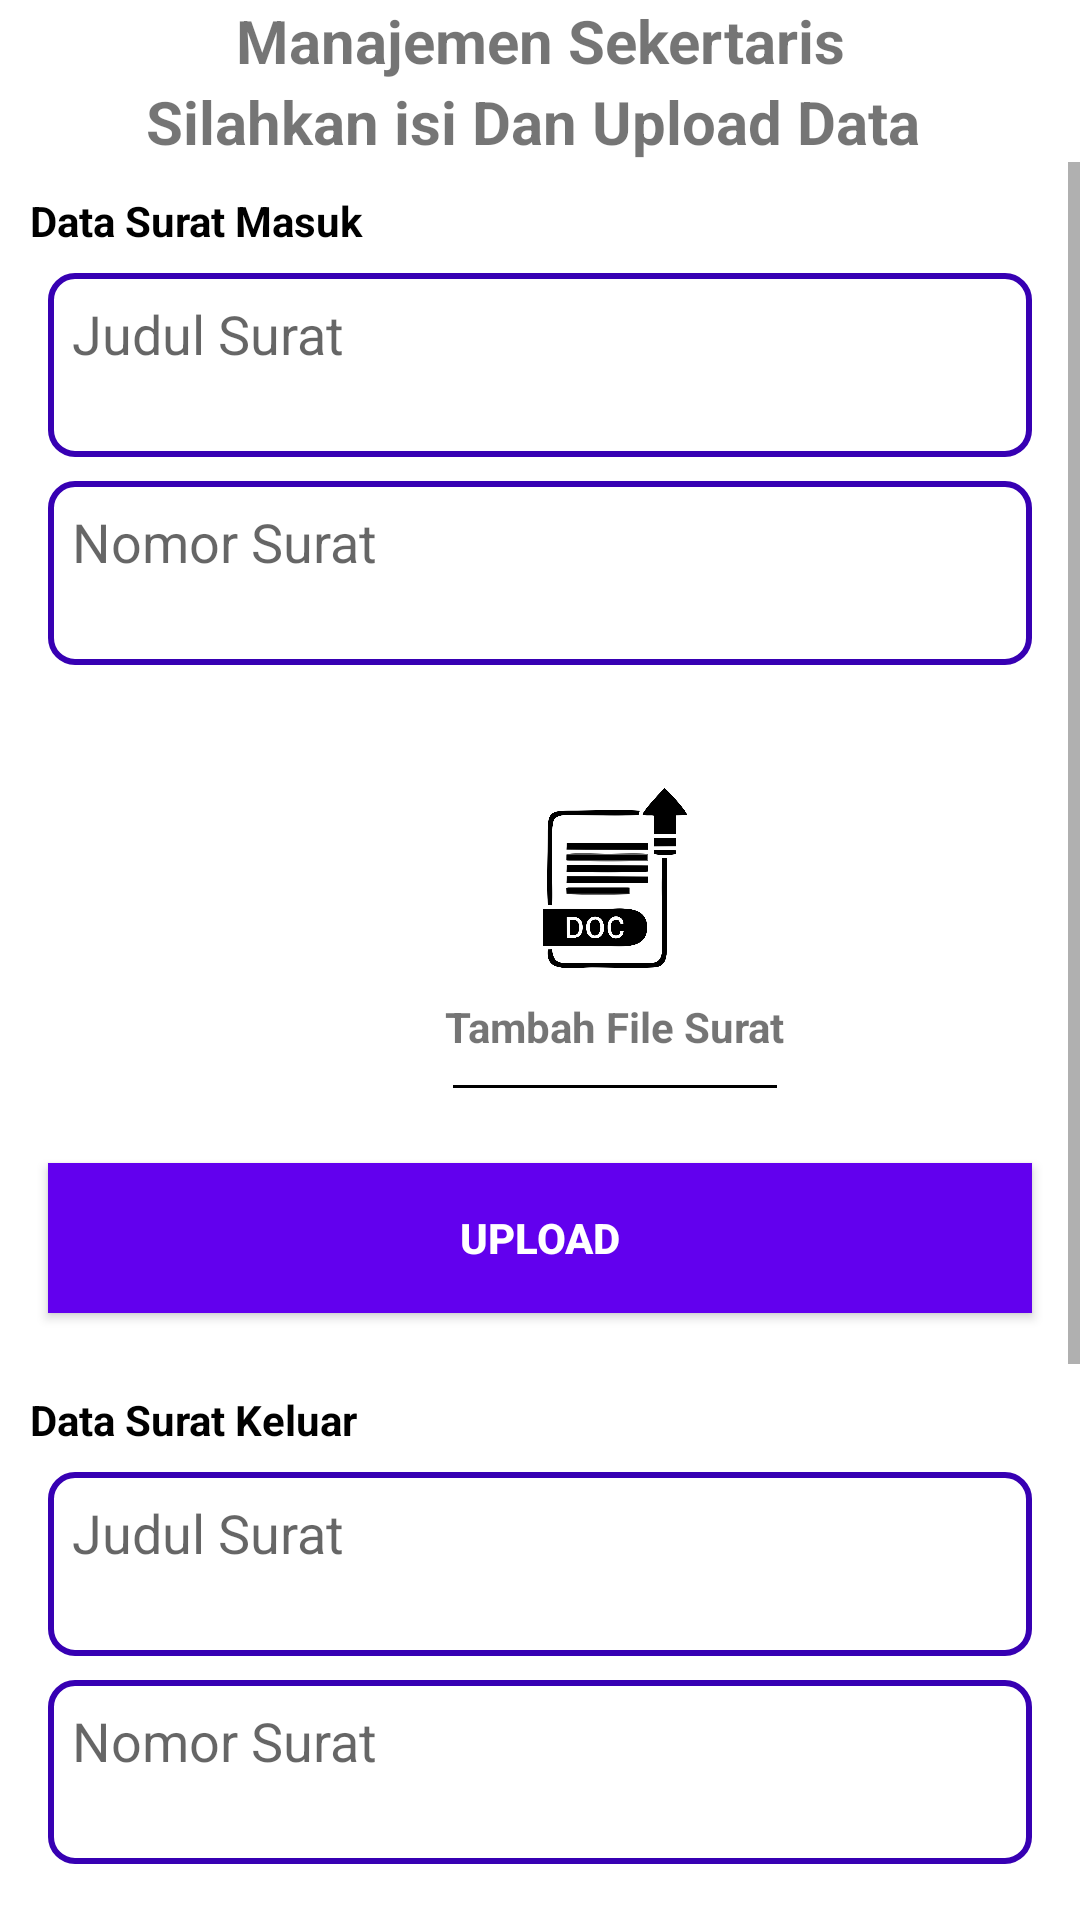

Screen size 1080*1920. Icon name, then its box in pixels as box=[x1, y1, x2, y2]:
fileupload: box=[543, 788, 687, 968]
